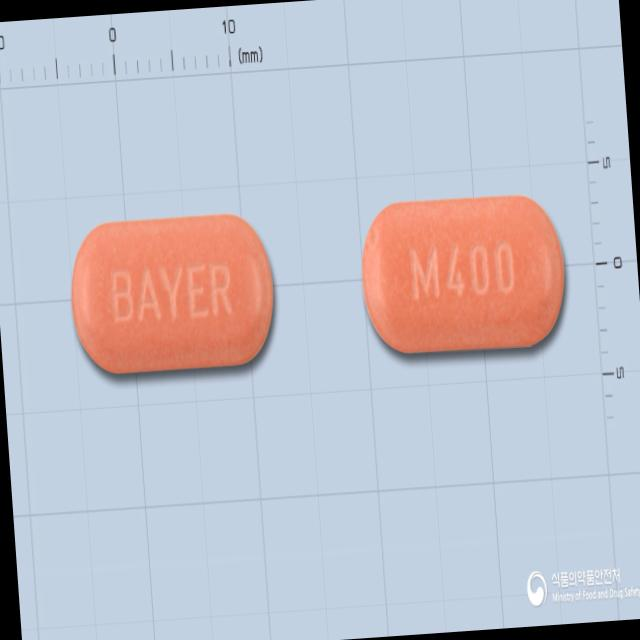Avelox: (61, 204, 282, 388)
